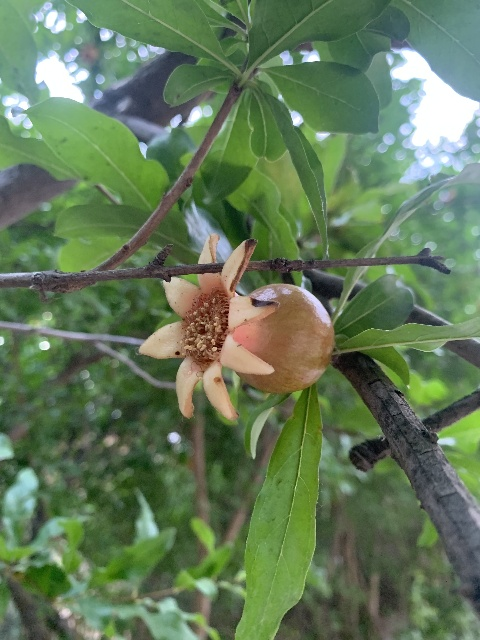early-fruit: (139, 235, 333, 421)
